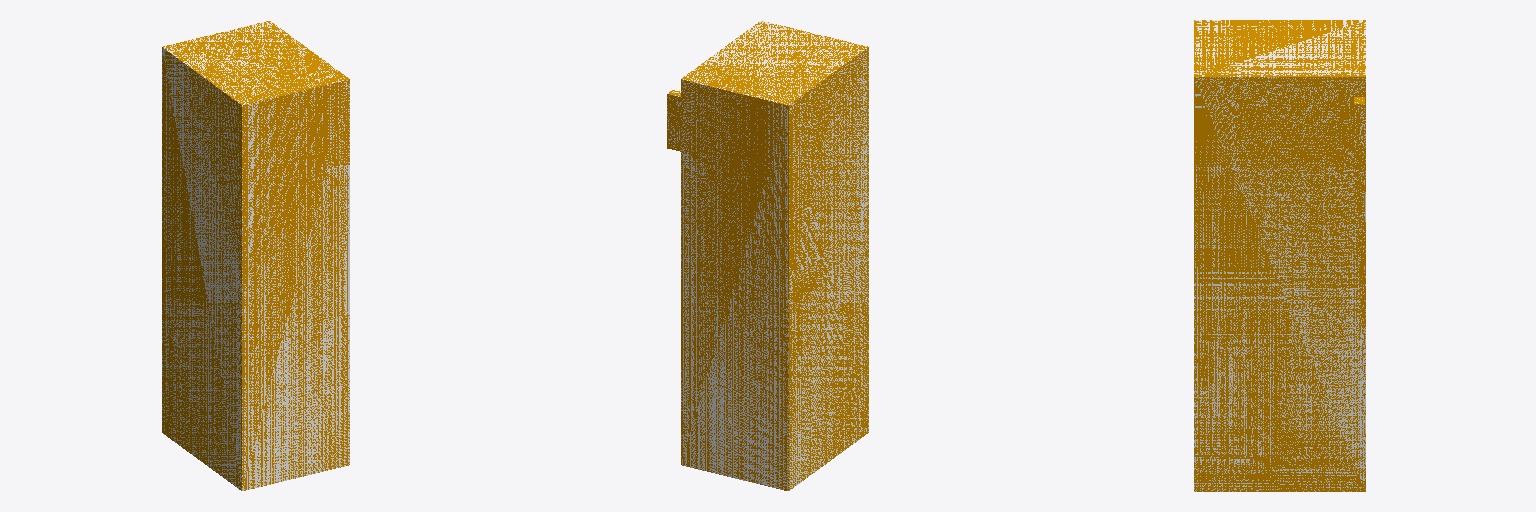
URDF robot description (my_object):
<?xml version="1.0" ?> 
<robot name="my_object" static="true">
  <link name="base_link">
  <inertial>
    <mass value="1.0" />
    <origin xyz="0 0 0.0" />
    <inertia ixx="1.0" ixy="0.0" ixz="0.0" iyy="1.0" iyz="0.0" izz="1.0"/>
  </inertial>
  <visual>
   <origin xyz="0 0 0.0" rpy="0 0 0" />
   <geometry>
     <mesh filename="package://cob_gazebo_objects/Media/models/cabinet_diamondback.dae"/>
   </geometry>
  </visual>
  <collision>
   <origin xyz="0 0 0.0" rpy="0 0 0" />
   <geometry>
     <mesh filename="package://cob_gazebo_objects/Media/models/cabinet_diamondback.dae" />
   </geometry>
  </collision>     
  </link>

<gazebo>
	<static>true</static>
</gazebo>
</robot>

--- Facts derived from the render (not from the file) ---
The picture shows the robot from 3 angles, left to right: view 1: azimuth 30°, elevation 25°; view 2: azimuth 150°, elevation 25°; view 3: azimuth 270°, elevation 25°; orthographic projection.
Robot: my_object — 1 links, 0 joints (none); root link base_link; default pose: every joint at zero.
Links seen in each view (by area): view 1: base_link; view 2: base_link; view 3: base_link.
Boxes of the visible links, left/top/right/bottom form: base_link: left=162, top=21, right=349, bottom=490; base_link: left=667, top=21, right=868, bottom=490; base_link: left=1194, top=20, right=1365, bottom=491.
Bounding box of the posed robot: 0.3503 × 0.3995 × 1.06 m (x, y, z).
1 mesh visuals loaded from 1 distinct referenced files (1 Collada DAE).